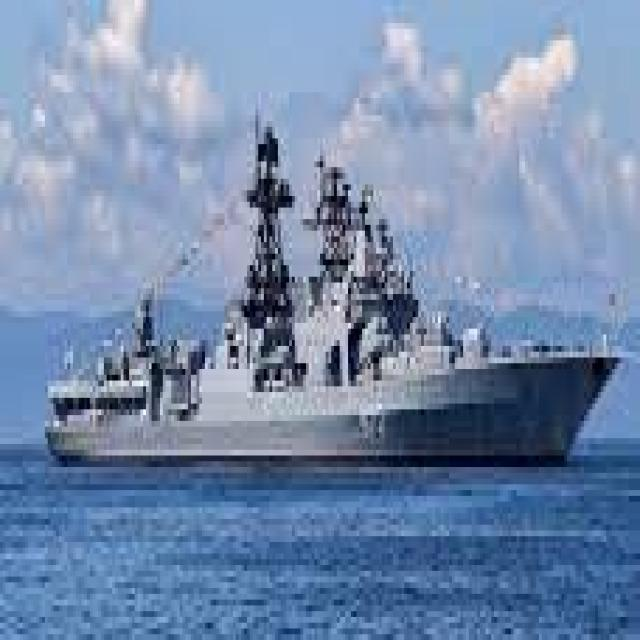navalvessels: (44, 63, 635, 481)
